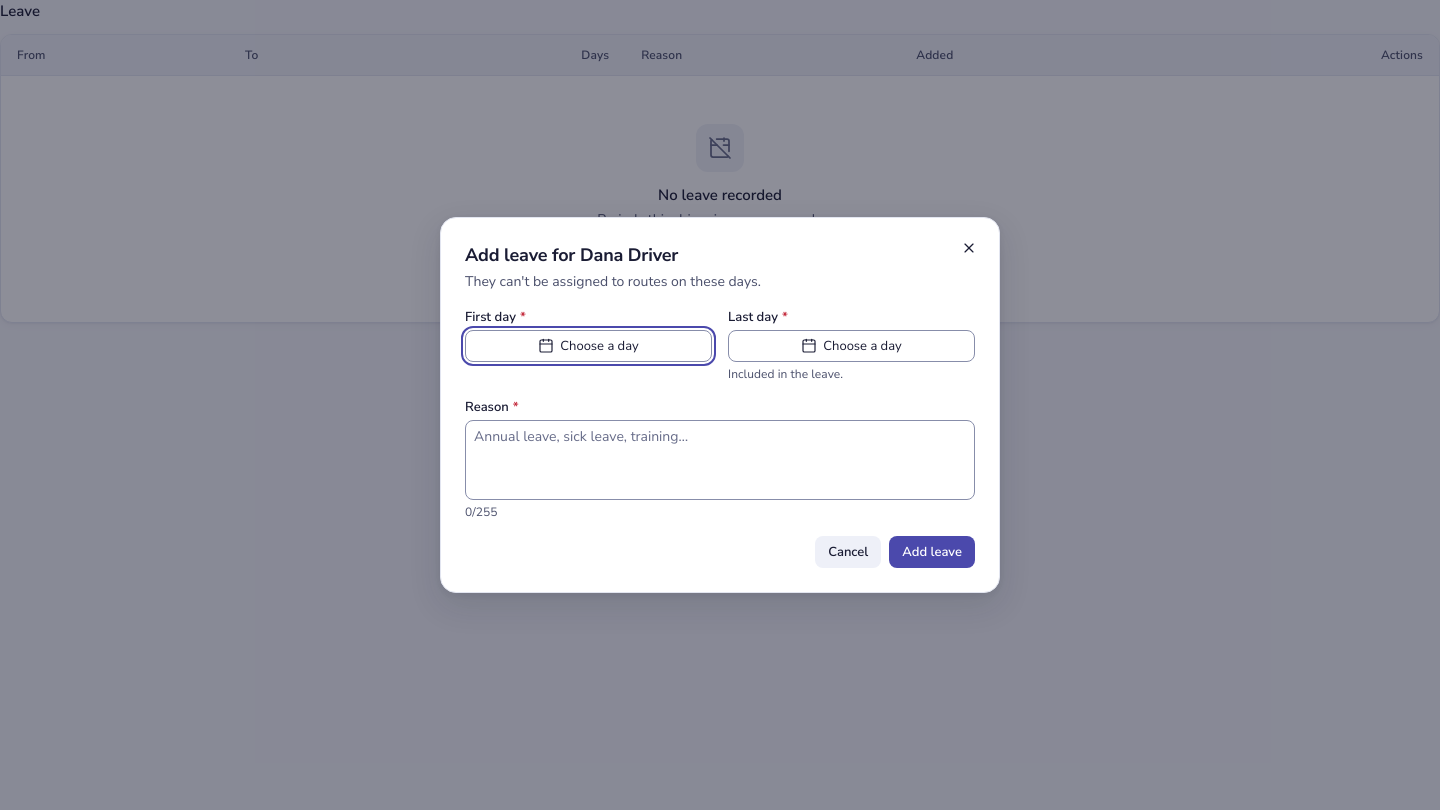
Scenario: DriverLeave management › adding leave › says on the dates when the period overlaps recorded leave (409), and keeps the dialog
The width and height of the screenshot is (1440, 810).
Earlier steps of the test are not shown.
expect the dialog is shown: met, box x1=440 y1=217 x2=1000 y2=593
Click the button with aria-label "First day (required):".
click(588, 346)  # box x1=465 y1=330 x2=712 y2=362
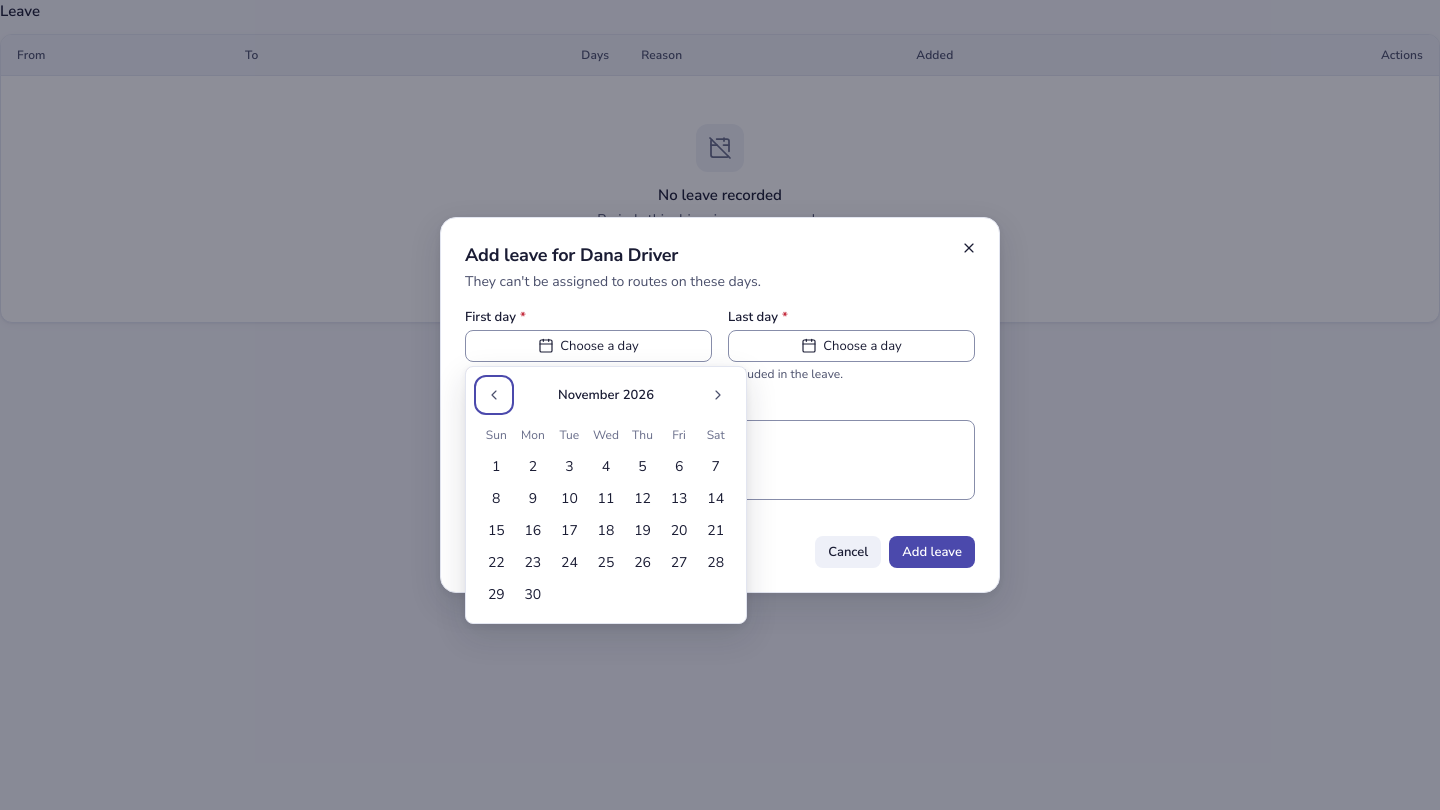
Click the button "10".
click(569, 499)  # box x1=553 y1=483 x2=585 y2=515
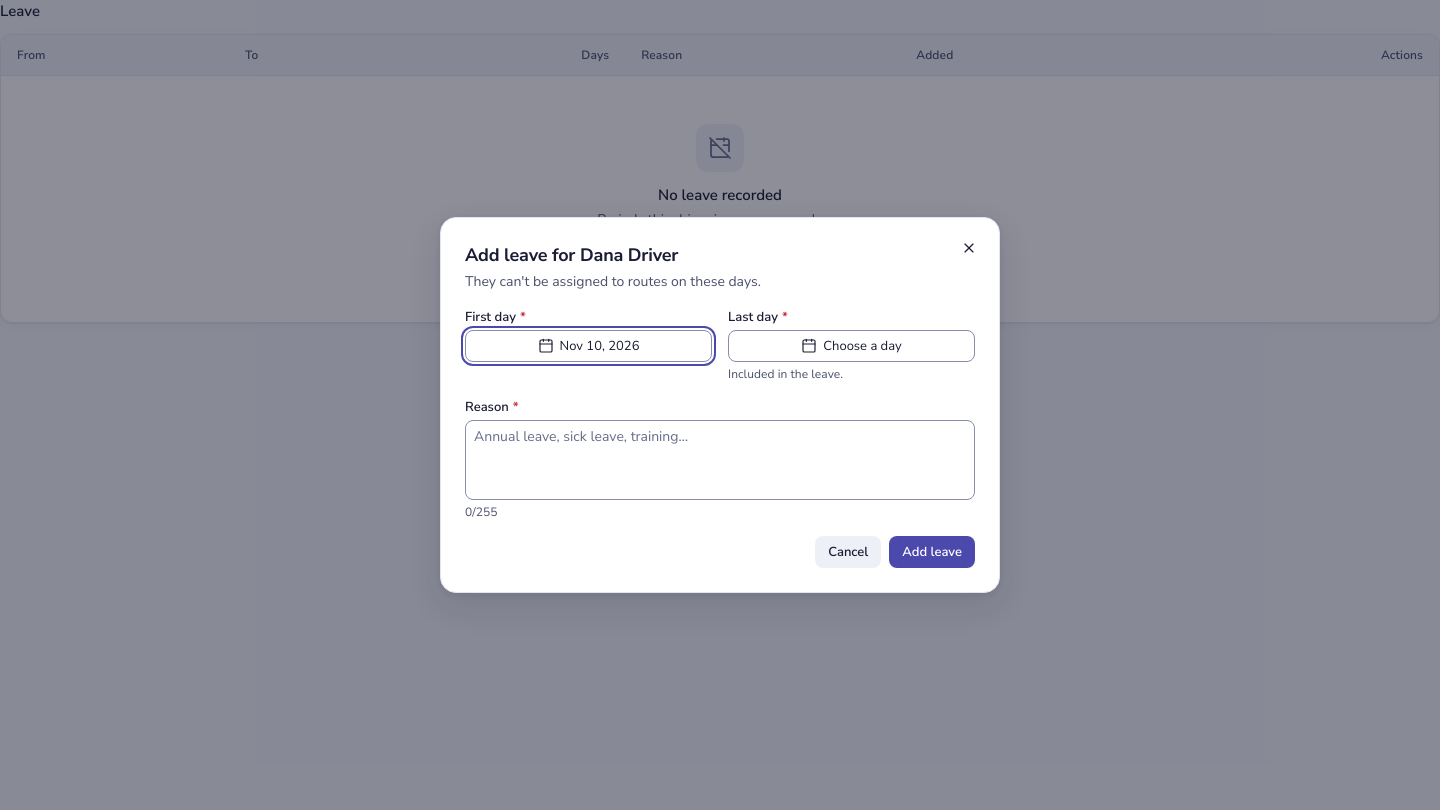
Click the button with aria-label "Last day (required):".
click(852, 346)  # box x1=728 y1=330 x2=975 y2=362
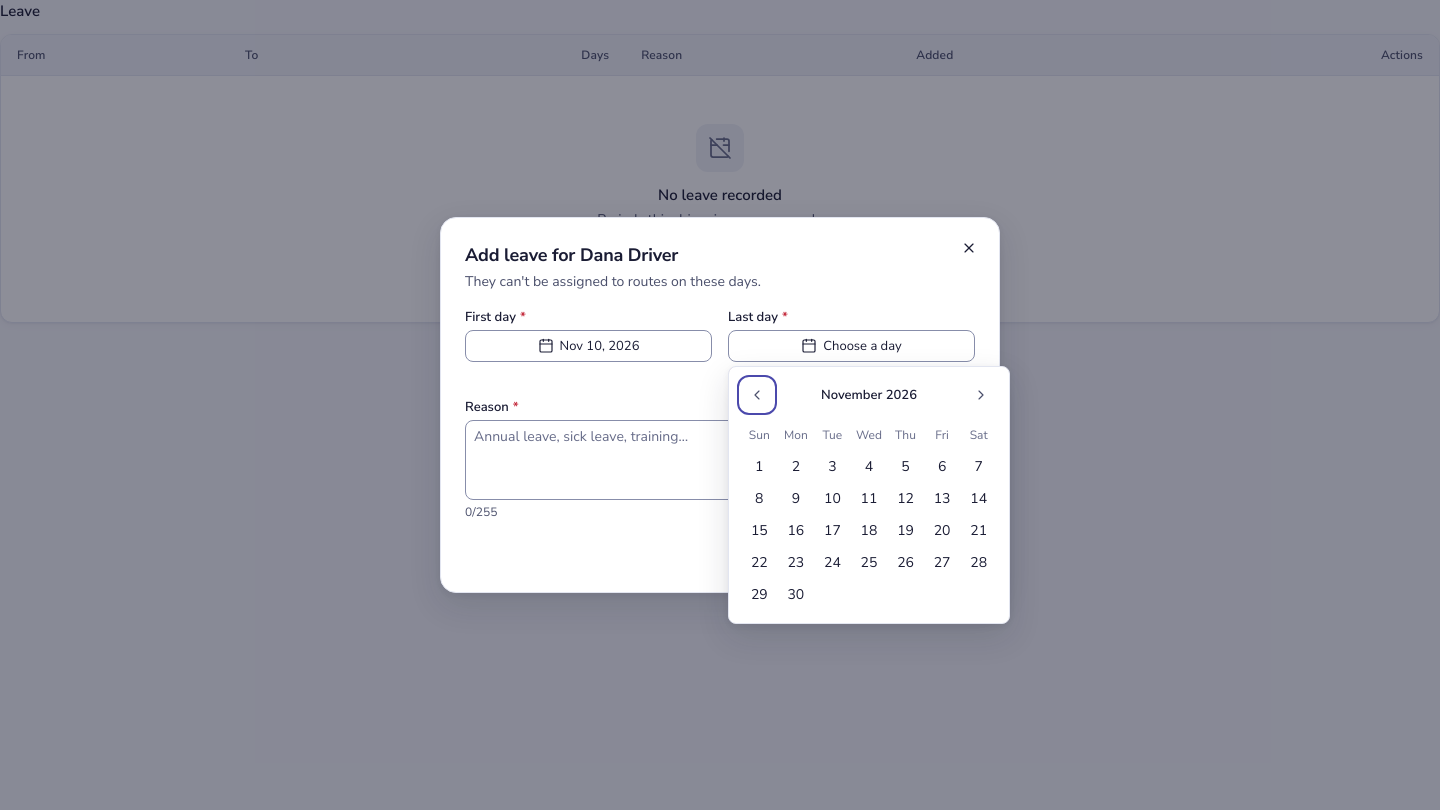
Click the button "14".
click(979, 499)  # box x1=963 y1=483 x2=995 y2=515
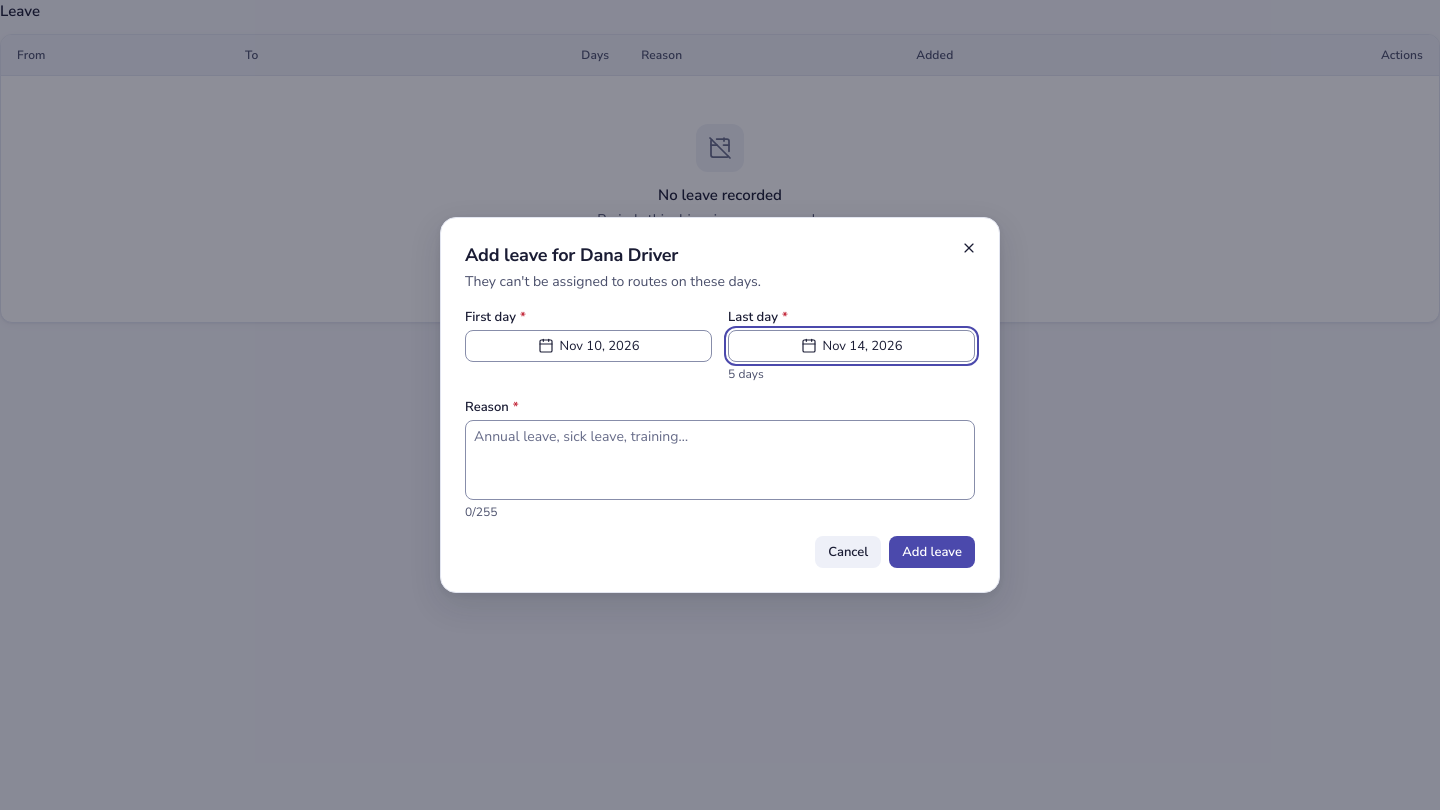
Type "Training" into the text box labelled "Reason*".
click(720, 460); type("Training")  # box x1=465 y1=420 x2=975 y2=500
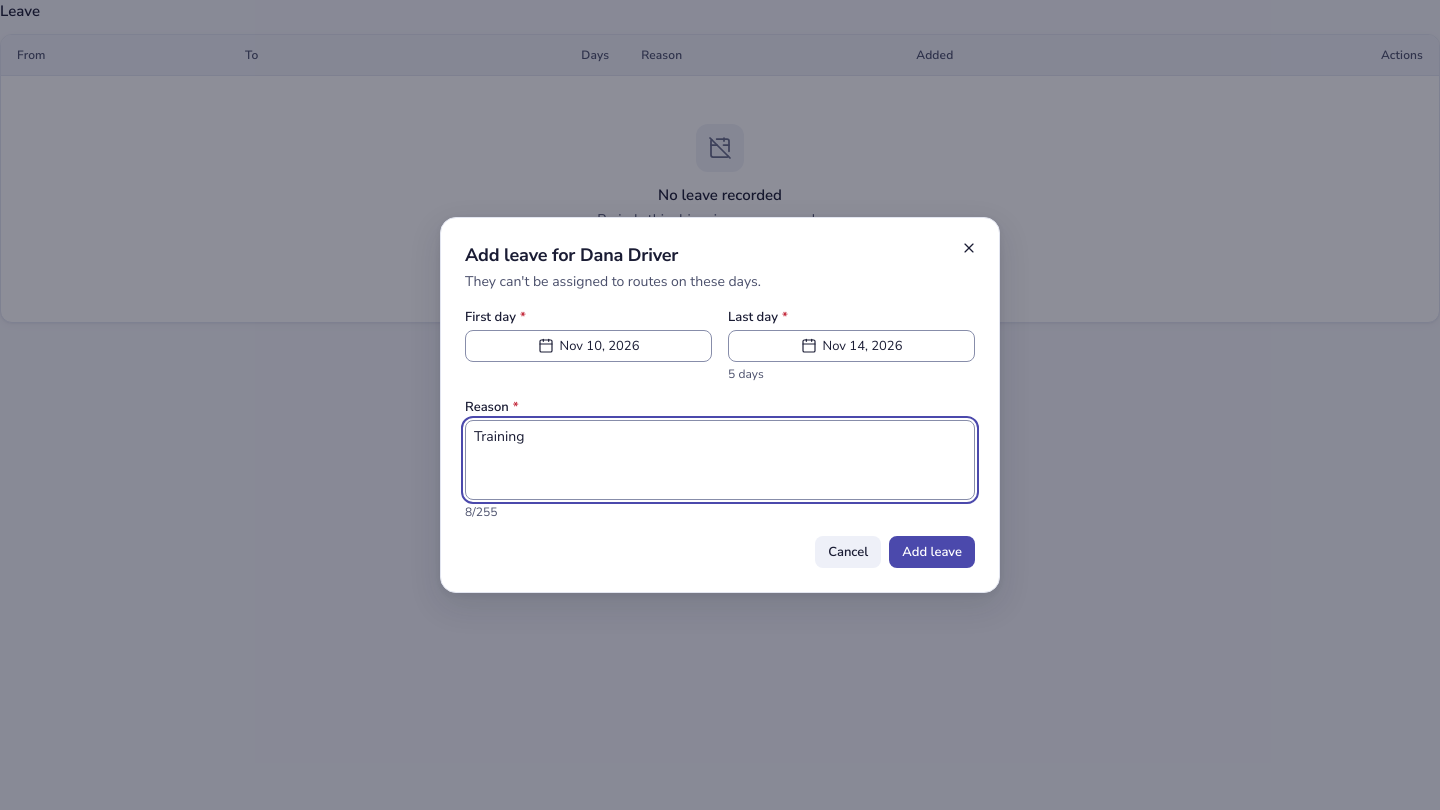
Click the button "Add leave".
click(932, 552)  # box x1=889 y1=536 x2=975 y2=568
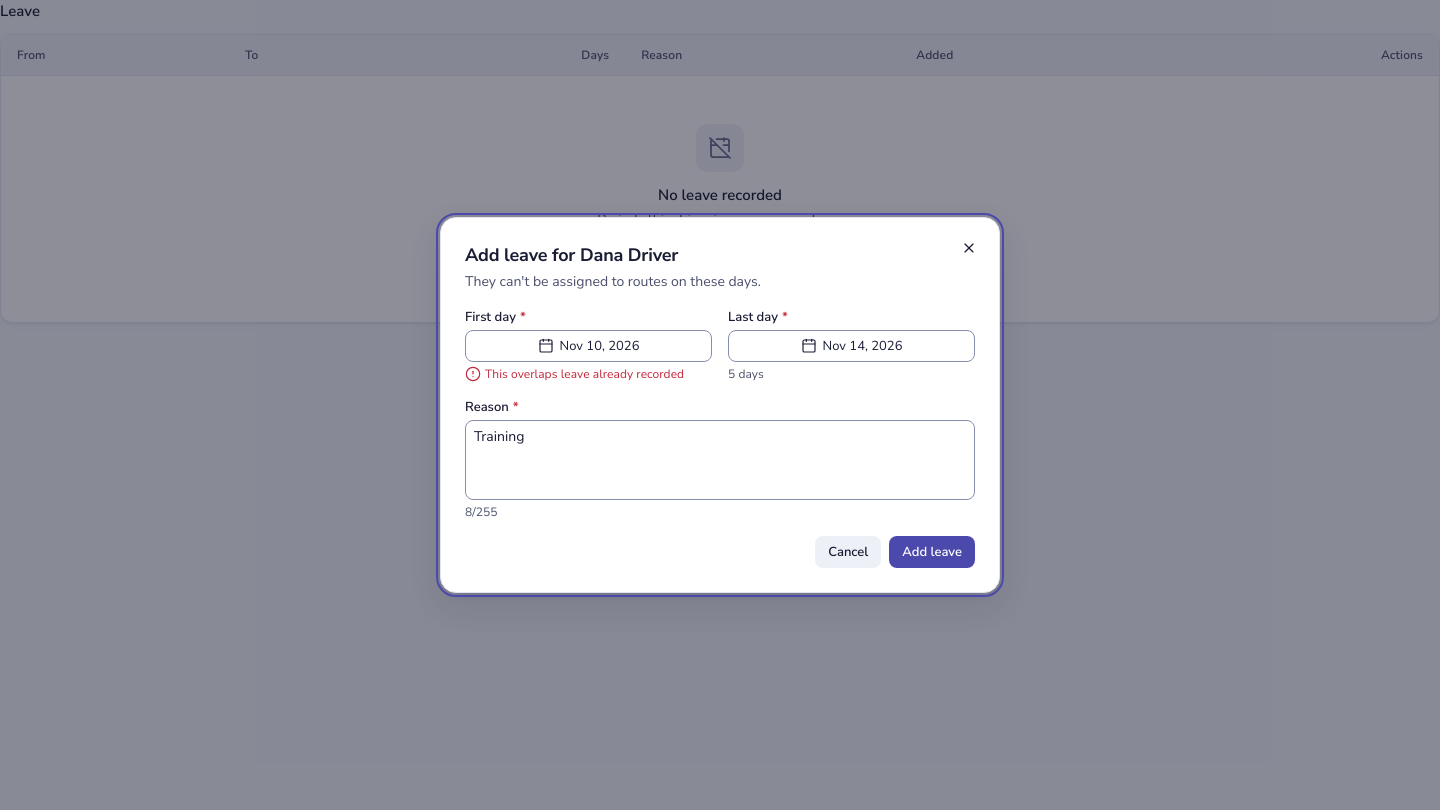
expect the dialog is shown: met, box x1=440 y1=217 x2=1000 y2=593
expect the text "This overlaps leave already recorded" is shown: met, box x1=465 y1=366 x2=712 y2=382
